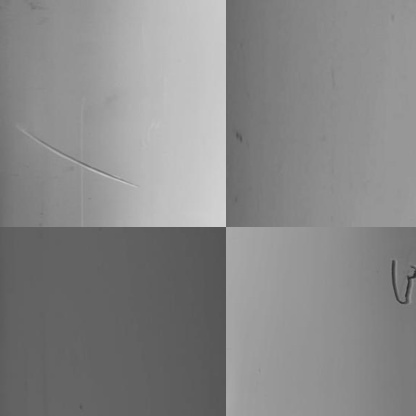fengxi: (385, 258, 416, 306)
sunshang: (13, 122, 136, 187)
